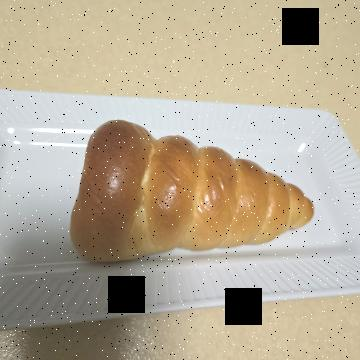cream horn: (108, 38, 290, 308)
